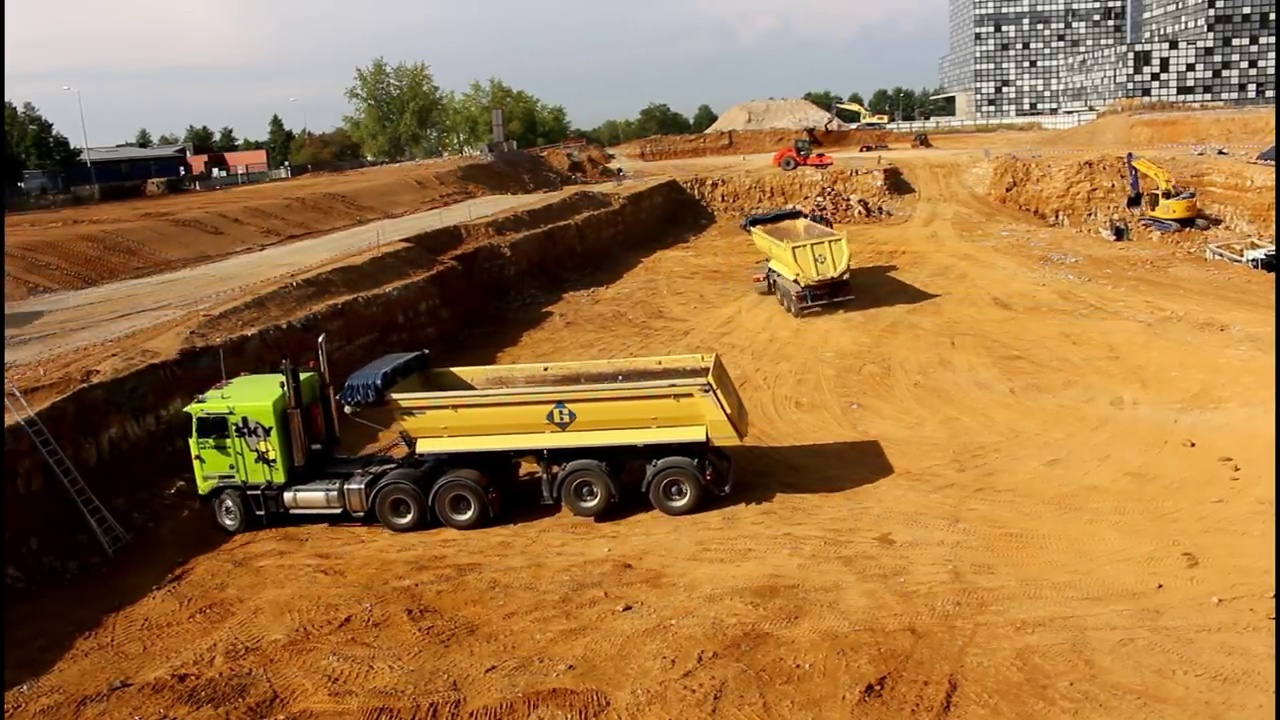compactor: (769, 137, 836, 174)
excavator: (1120, 150, 1216, 238), (819, 99, 892, 134)
truck: (182, 328, 754, 534), (740, 206, 857, 321), (1203, 236, 1280, 288)
worker: (612, 164, 630, 190)
